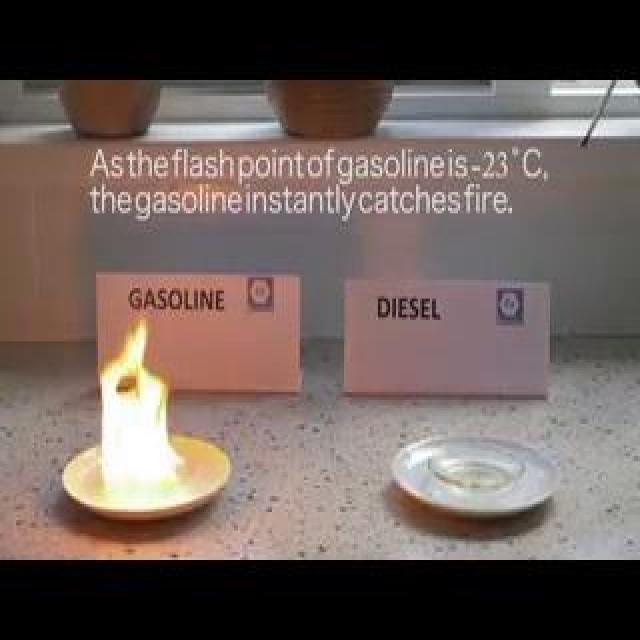Fire: (128, 168, 139, 428)
